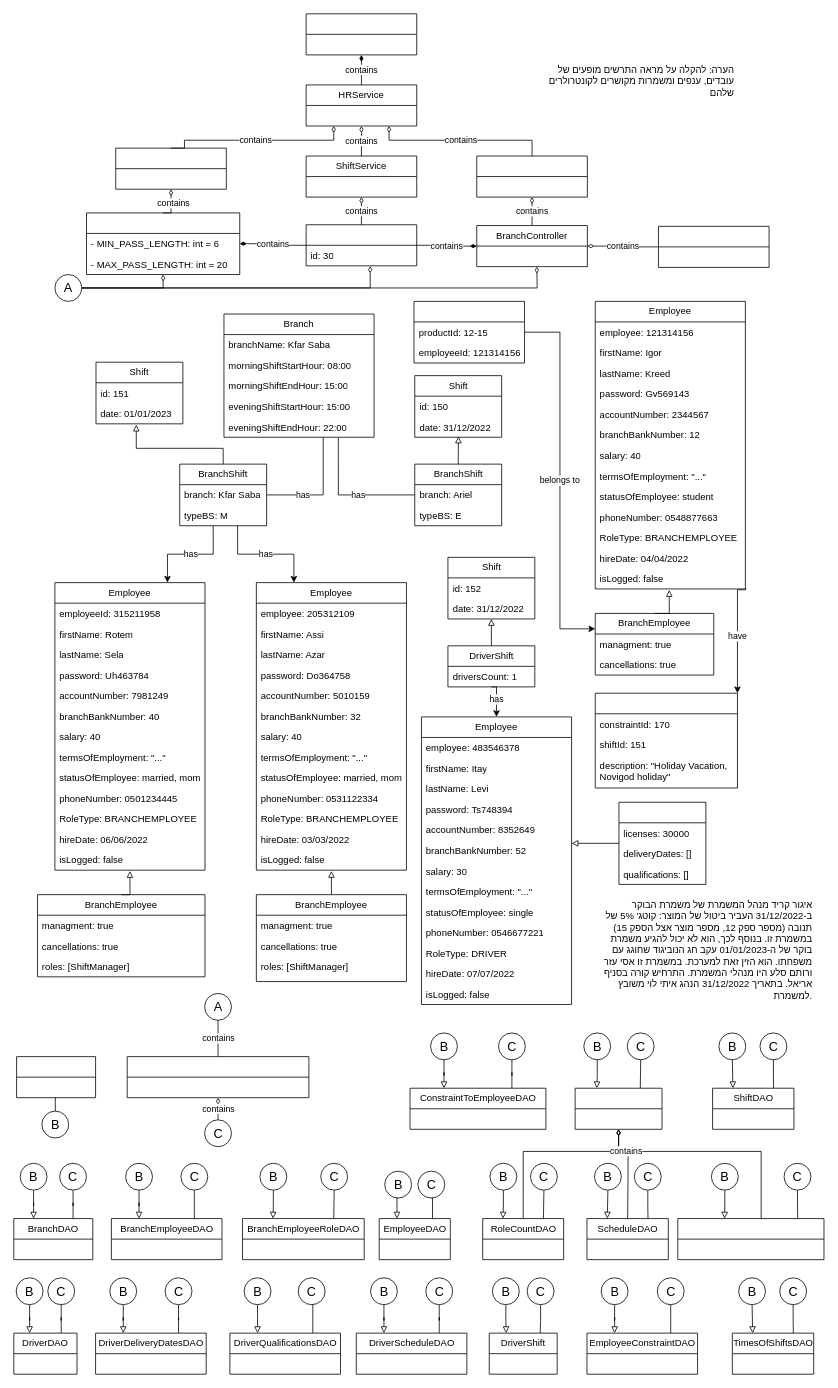
Some shapes in this 838 by 1388 pixel diagram are drawn without their labels. Each missing label, with the box of its shape:
AbstractDAO: (16, 1056, 96, 1098)
BranchService: (476, 155, 587, 197)
BranchShiftDAO: (574, 1087, 662, 1129)
DALFacade: (126, 1056, 309, 1098)
Driver: (618, 801, 706, 884)
EmployeeConstraint: (594, 692, 737, 788)
EmployeeController: (86, 212, 240, 275)
EmployeeService: (115, 147, 226, 189)
ProductCancellation: (413, 301, 525, 363)
ProductCancellationToShiftDAO: (677, 1218, 824, 1260)
ResourceController: (658, 226, 769, 267)
ShiftController: (305, 224, 417, 266)
SystemFacade: (305, 13, 417, 55)
